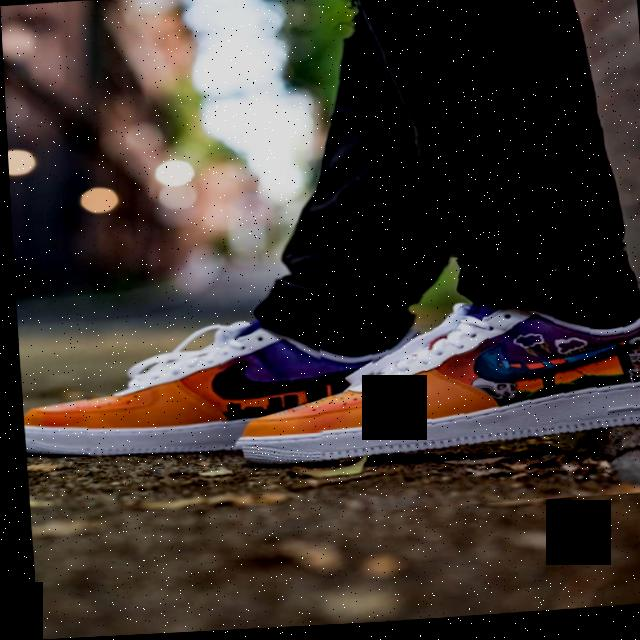shoe: (355, 242, 640, 514), (12, 289, 324, 460)
